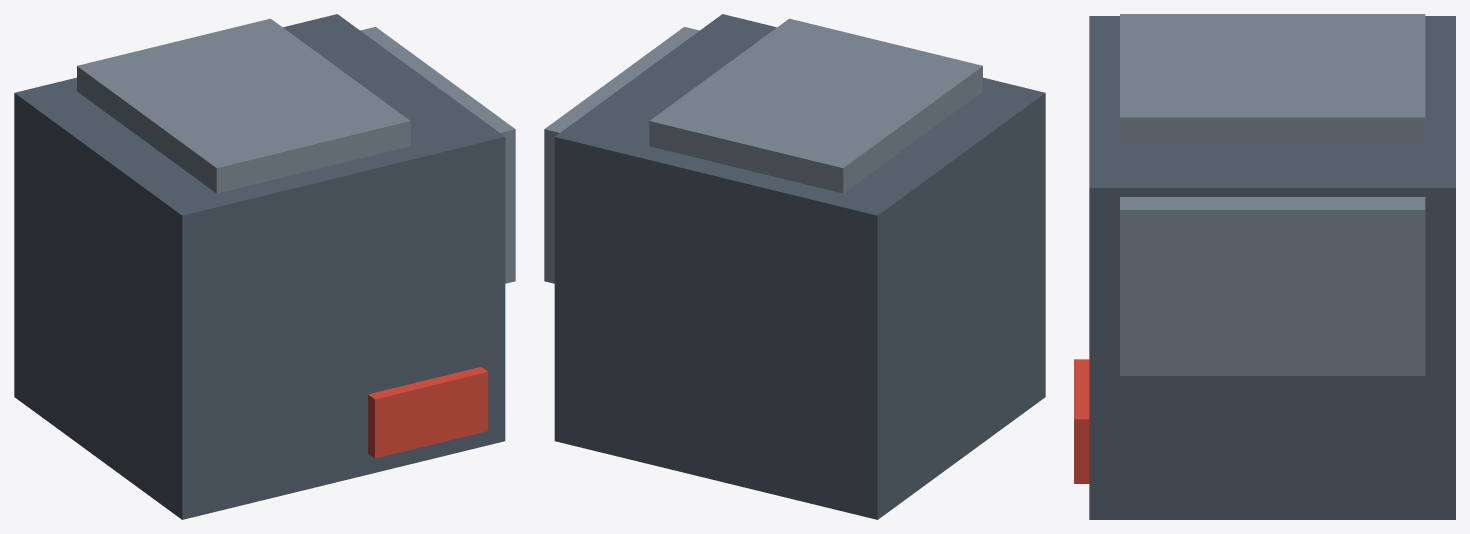
3 renders of one model, left to right at view 1: azimuth 30°, elevation 25°; view 2: azimuth 150°, elevation 25°; view 3: azimuth 270°, elevation 25°, orthographic. The views are drawn at different scales.
Visible parts, largest first — view 1: GEO_module_rear_shell_01_LOD0; view 2: GEO_module_rear_shell_01_LOD0; view 3: GEO_module_rear_shell_01_LOD0.
Boxes of the visible parts, box(x1,y1,x2,y2) form: GEO_module_rear_shell_01_LOD0: box(14, 14, 515, 519); GEO_module_rear_shell_01_LOD0: box(544, 14, 1045, 519); GEO_module_rear_shell_01_LOD0: box(1074, 14, 1455, 519).
Bounding box in the file's own units: 0.043 × 0.039 × 0.0375.
